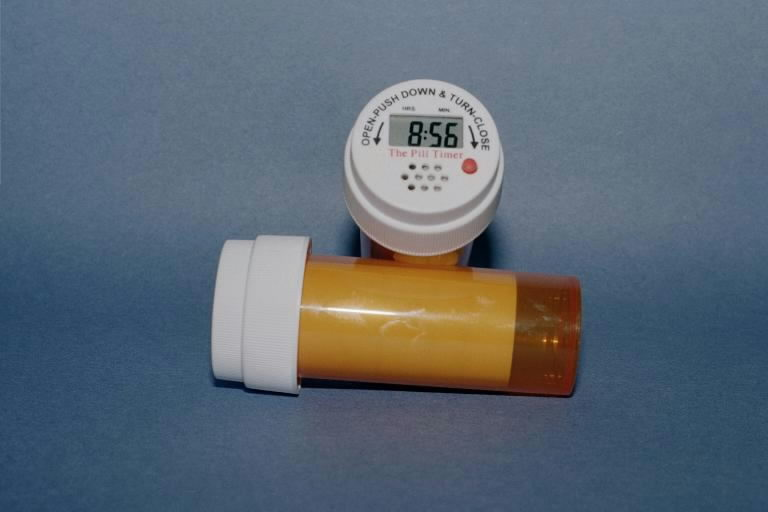pill bottle: (211, 235, 584, 404)
